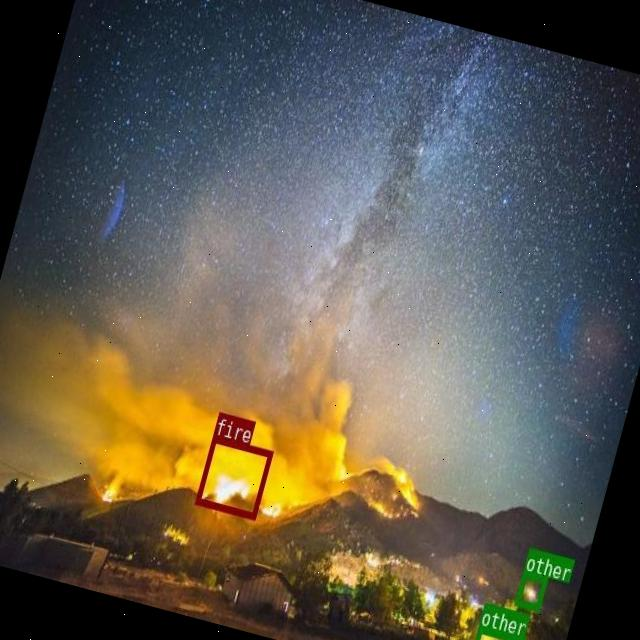fire: (194, 434, 272, 518)
